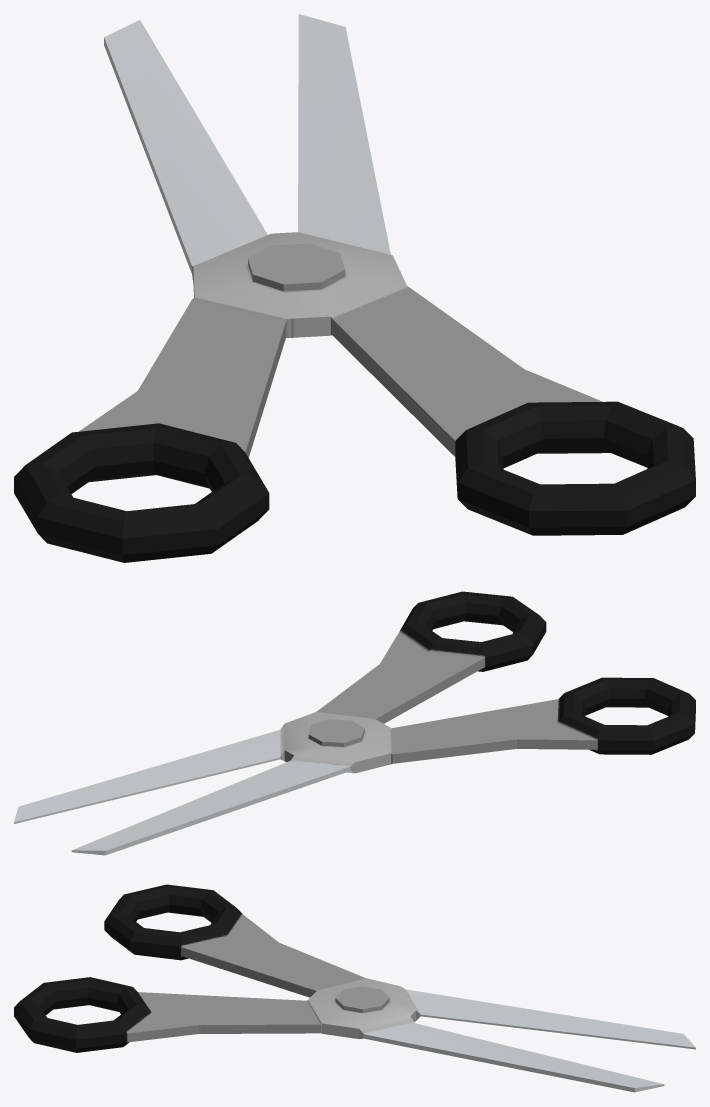
File: scissors.fbx
3 renders of one model, top to bottom at view 1: azimuth 30°, elevation 25°; view 2: azimuth 150°, elevation 25°; view 3: azimuth 270°, elevation 25°, orthographic. The views are drawn at different scales.
Visible parts, largest first — view 1: scissors; view 2: scissors; view 3: scissors.
Part boxes in pixels (x1,y1,x2,y2): scissors: (14,14,695,562); scissors: (14,591,695,855); scissors: (14,884,695,1092).
Bounding box in the file's own units: 17 × 1.03 × 25.04.
Materials: 1 (1 with a texture image).
